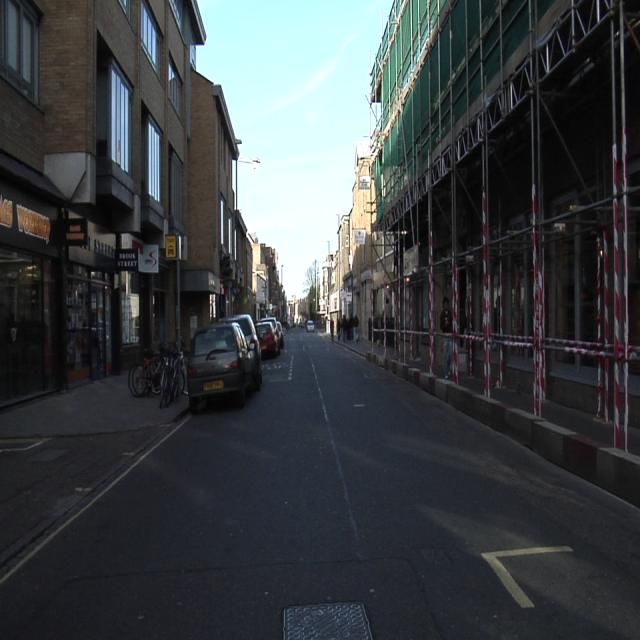Building: (324, 0, 639, 505), (1, 1, 284, 400)
Car: (187, 318, 261, 412), (256, 319, 282, 355), (307, 320, 314, 330)
Road: (0, 333, 640, 638)
